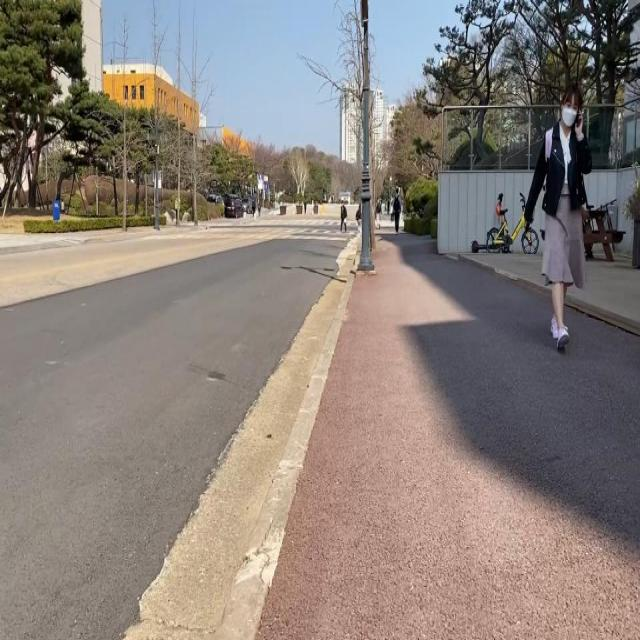sidewalk: (258, 233, 640, 639)
